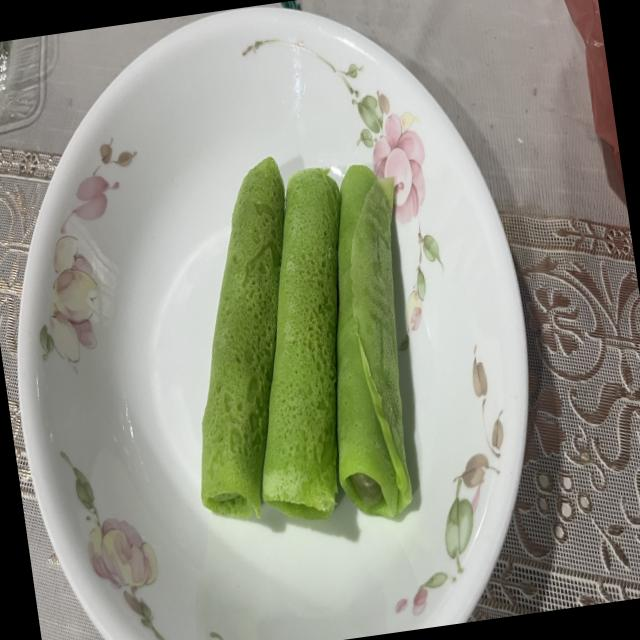Kuih-Ketayap: (201, 158, 285, 517), (262, 167, 341, 520), (337, 165, 412, 517)
